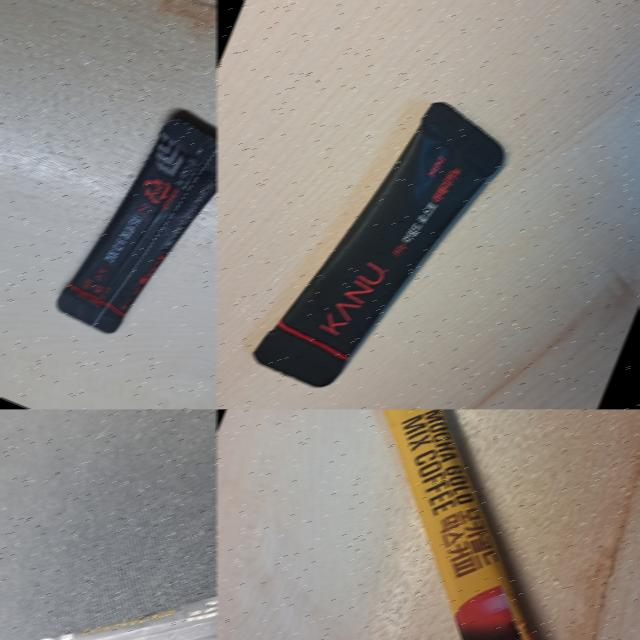KANU: (231, 60, 544, 409), (38, 65, 218, 377)
espresso_mini: (0, 429, 217, 640)
mix_coffee: (216, 409, 640, 640)
